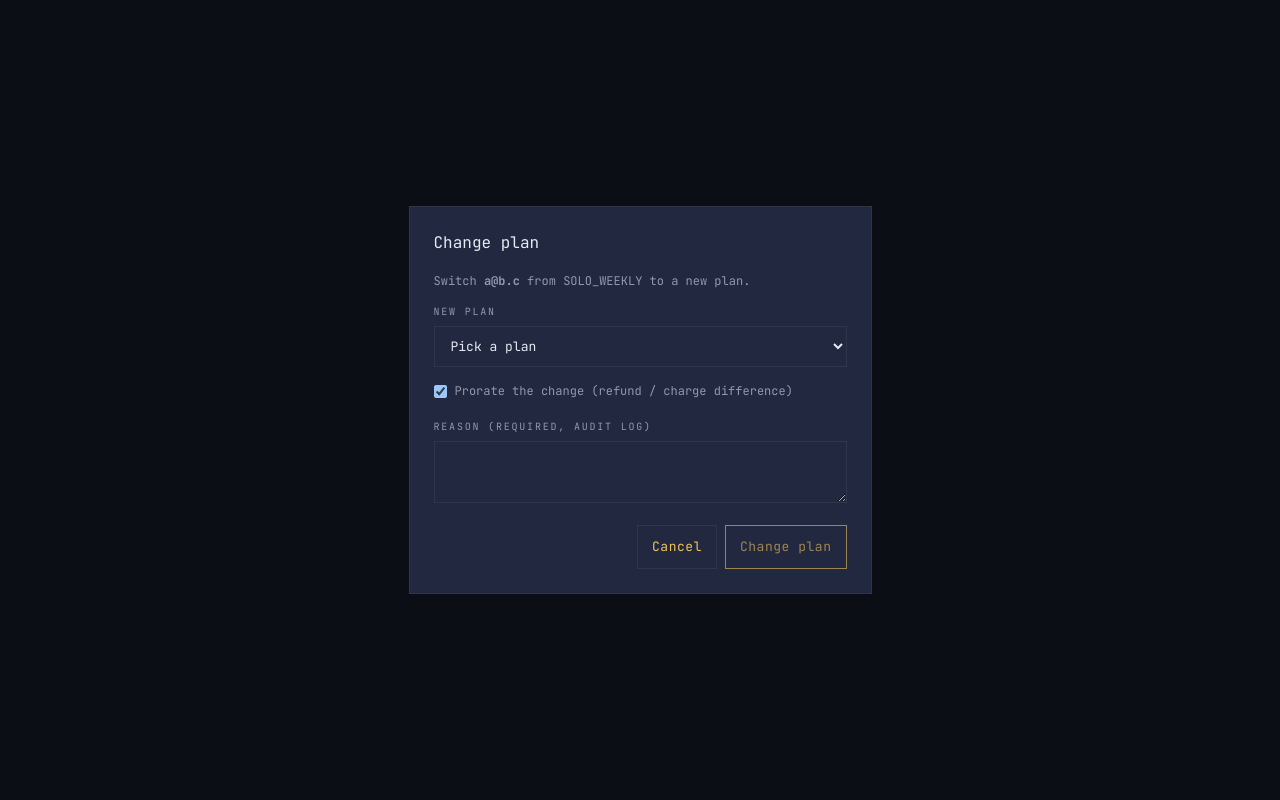
Test: ChangePlanModal › disables submit until plan + reason are filled
Expected: the button "Change plan" is disabled, x1=725 y1=525 x2=846 y2=569
Select "Solo Weekly $9.99/wk (SOLO_WEEKLY)" in the dropdown labelled "New plan". click: [640, 346]
box: x1=434 y1=326 x2=846 y2=367
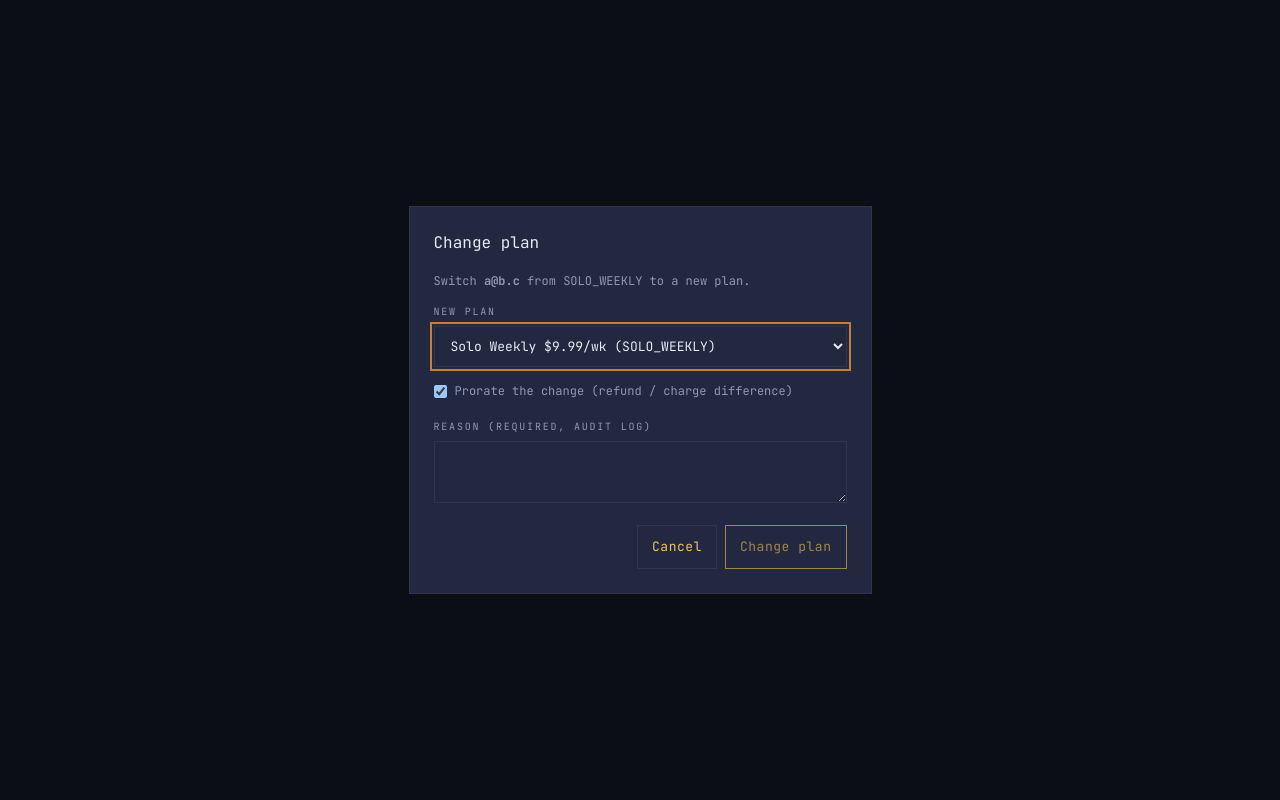
Type "r" into the text box labelled "Reason (required, audit log)". click: [640, 472]
box: x1=434 y1=441 x2=846 y2=503
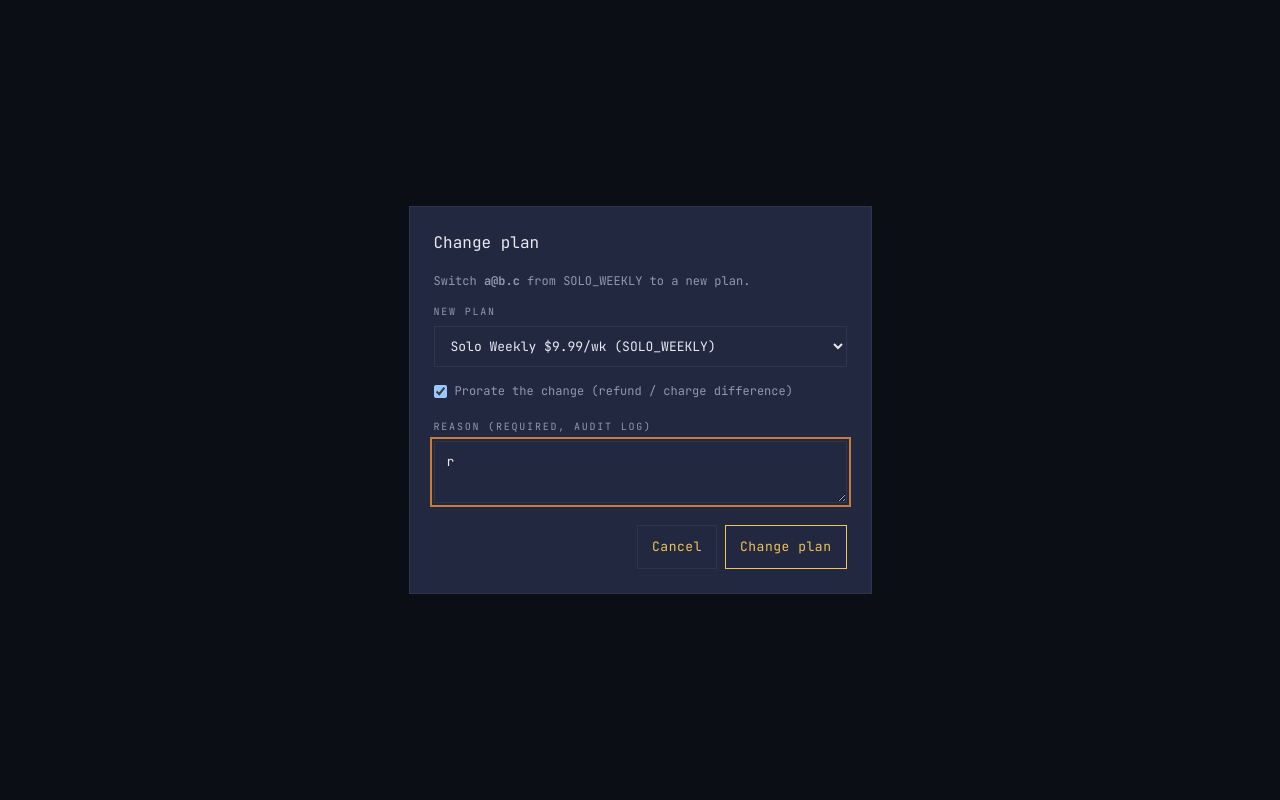
Expected: the button "Change plan" is enabled, x1=725 y1=525 x2=846 y2=569
